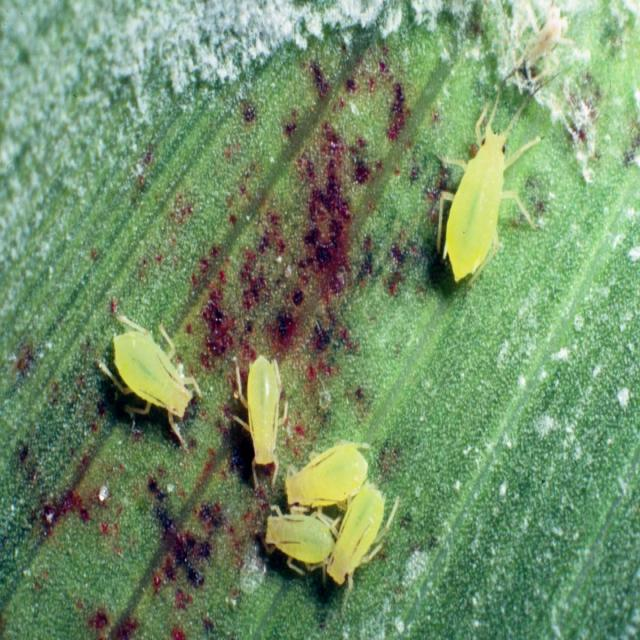Aphid-Grown-: (414, 87, 543, 305), (97, 297, 205, 457), (220, 341, 288, 492), (319, 473, 394, 602), (259, 486, 349, 587), (273, 428, 379, 512)
